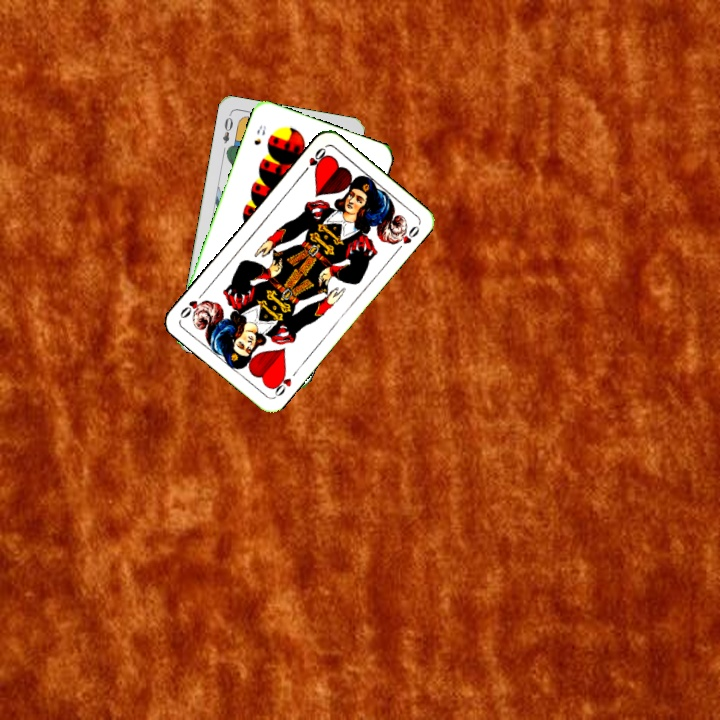EO: (218, 110, 235, 146)
HO: (298, 143, 330, 177), (267, 368, 294, 400)
S8: (250, 121, 269, 148)
